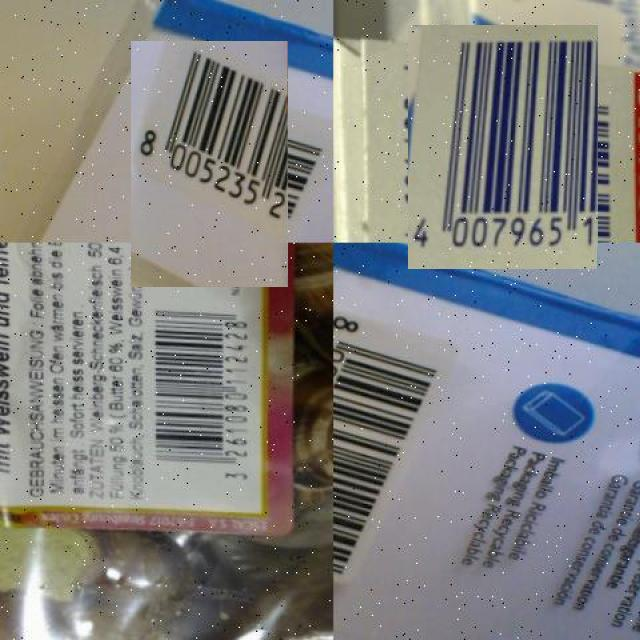Barcode: (395, 39, 612, 256), (109, 63, 311, 265), (334, 307, 466, 588), (144, 303, 259, 492)
